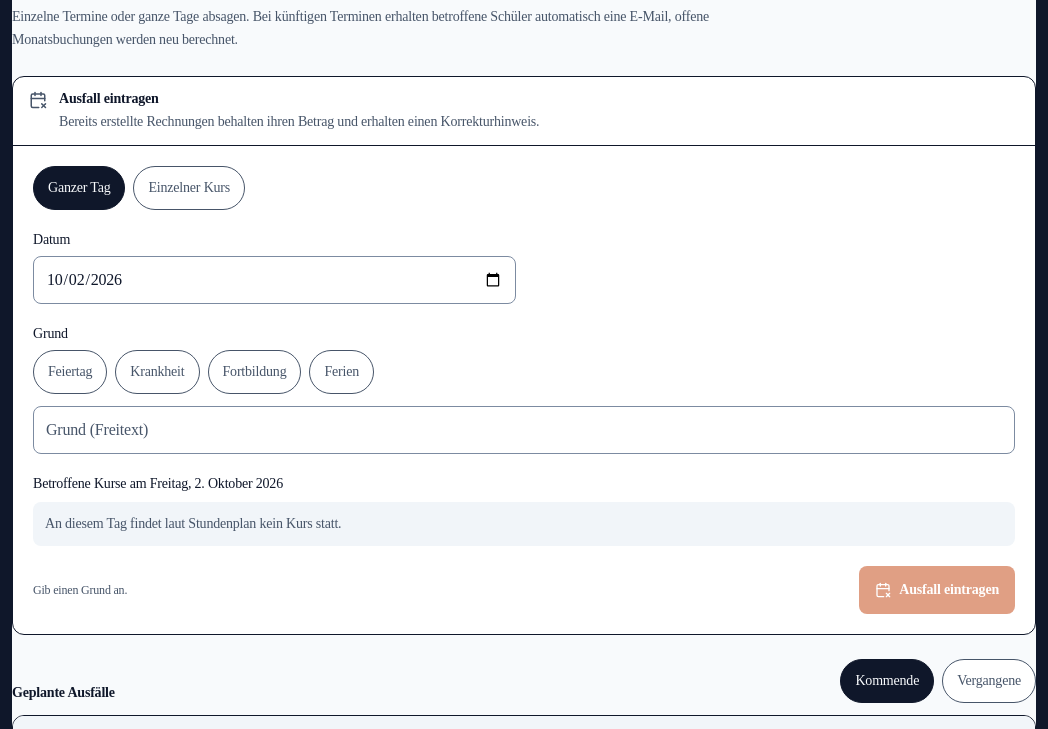
whole day: unchecked courses are left out and partial failures stay visible
This screenshot has width=1048, height=729.
Step 1. Type "2099-10-05" into the date field labelled "Datum" → (274, 280), box [33, 256, 516, 304]
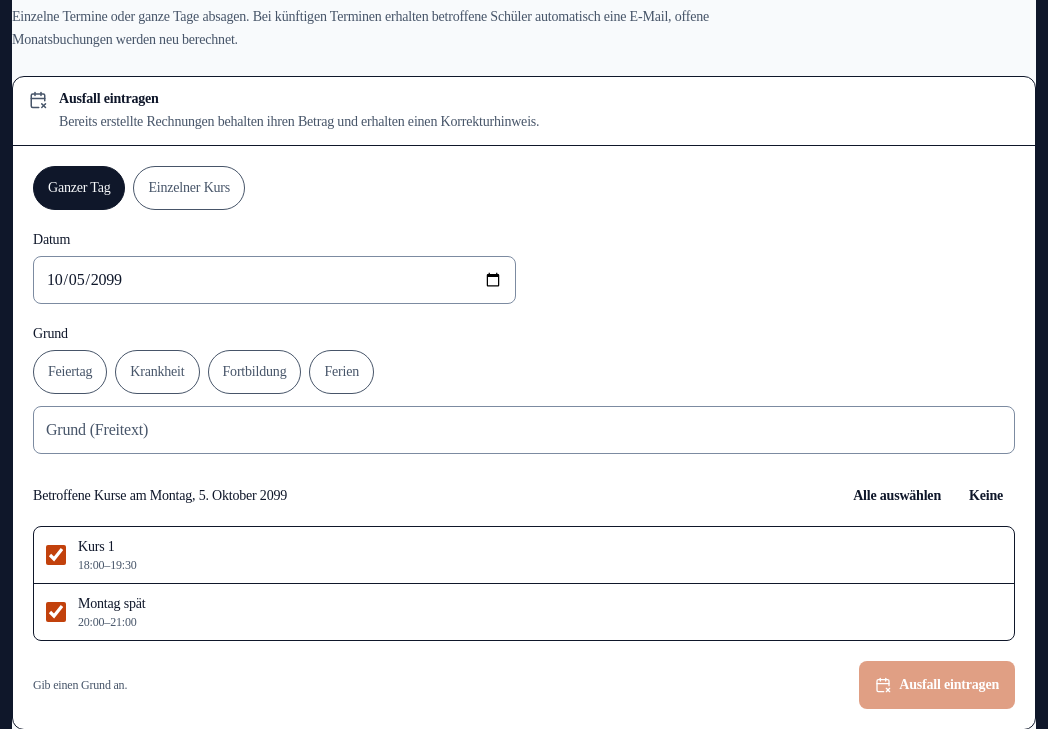
Step 2. Click the checkbox labelled "Montag spät 20:00–21:00" → (56, 612), box [46, 602, 66, 622]
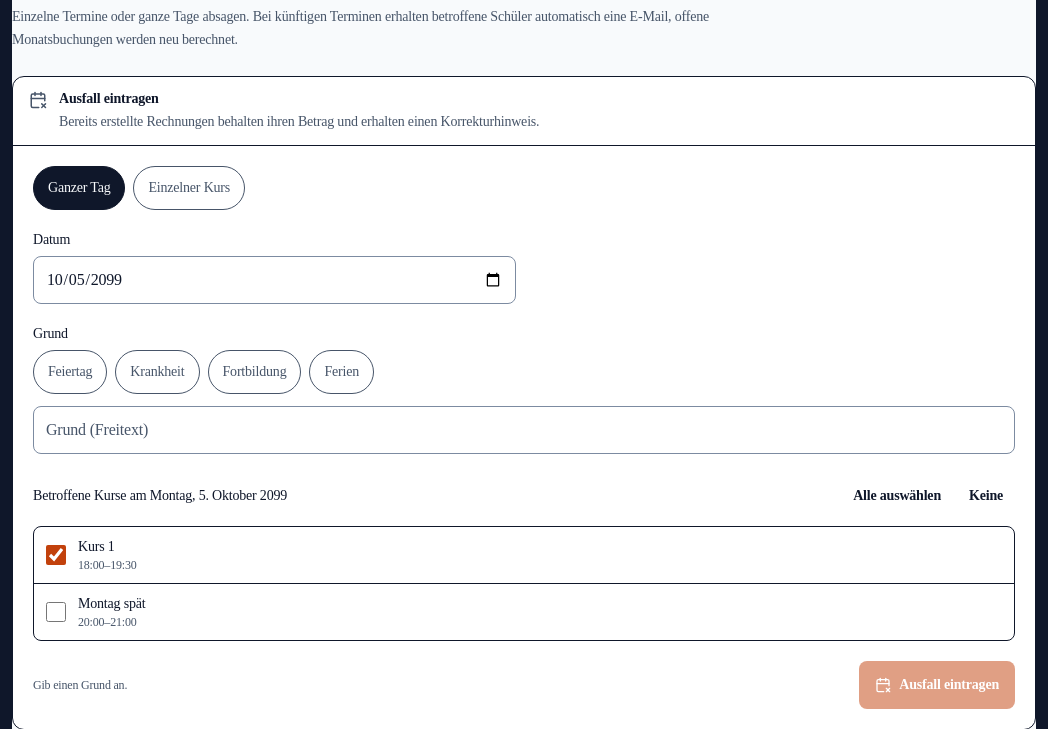
Step 3. Type "Krank" into the field with placeholder "Grund (Freitext)" → (524, 430), box [33, 406, 1015, 454]
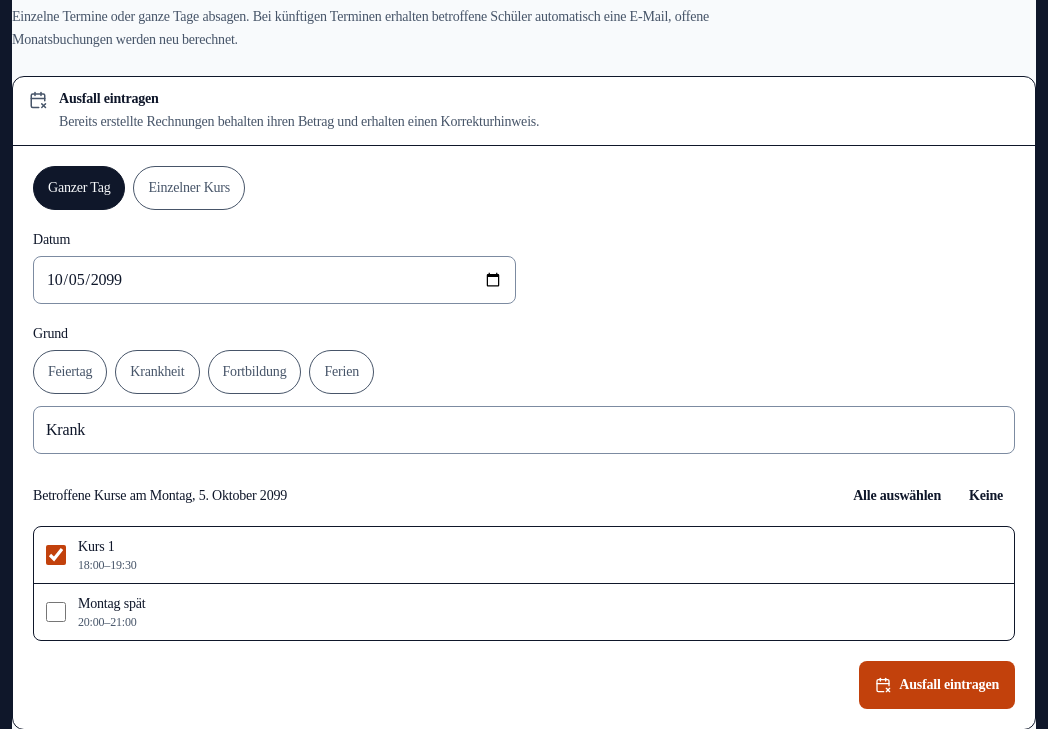
Step 4. Click the button "Ausfall eintragen" → (937, 685), box [859, 661, 1015, 709]
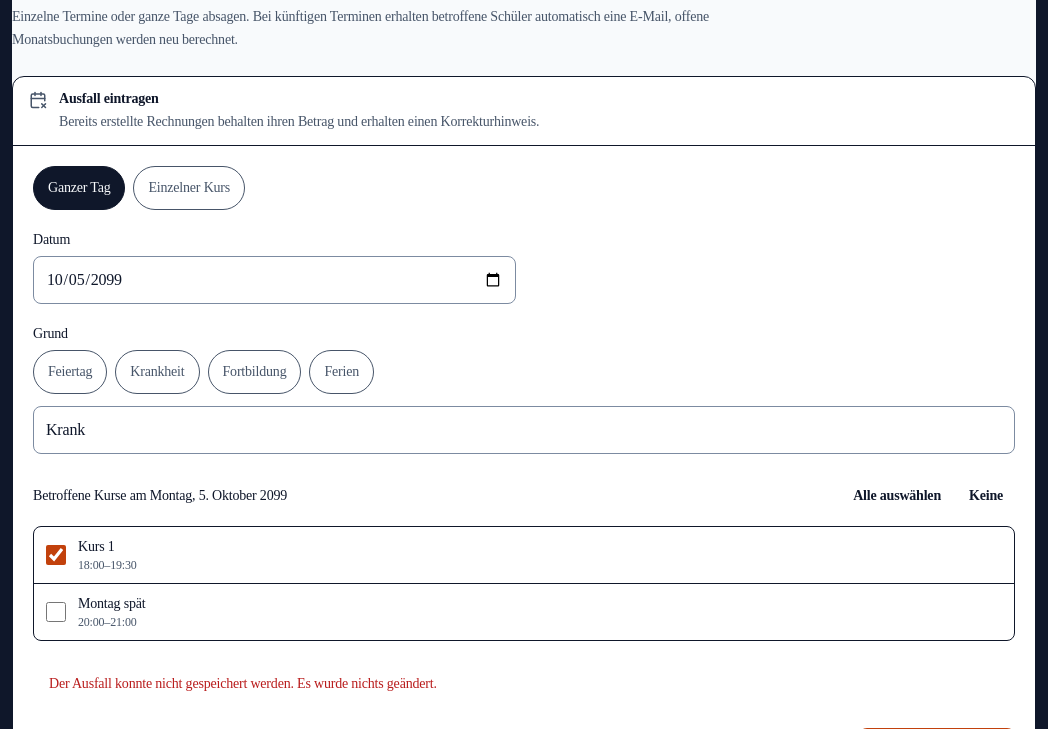
Expected: the message reads "Der Ausfall konnte nicht gespeichert werden. Es wurde nichts geändert.", [49, 676, 437, 691]
Step 5. Click the checkbox labelled "Montag spät 20:00–21:00" → (56, 612), box [46, 602, 66, 622]
(page scrolled)
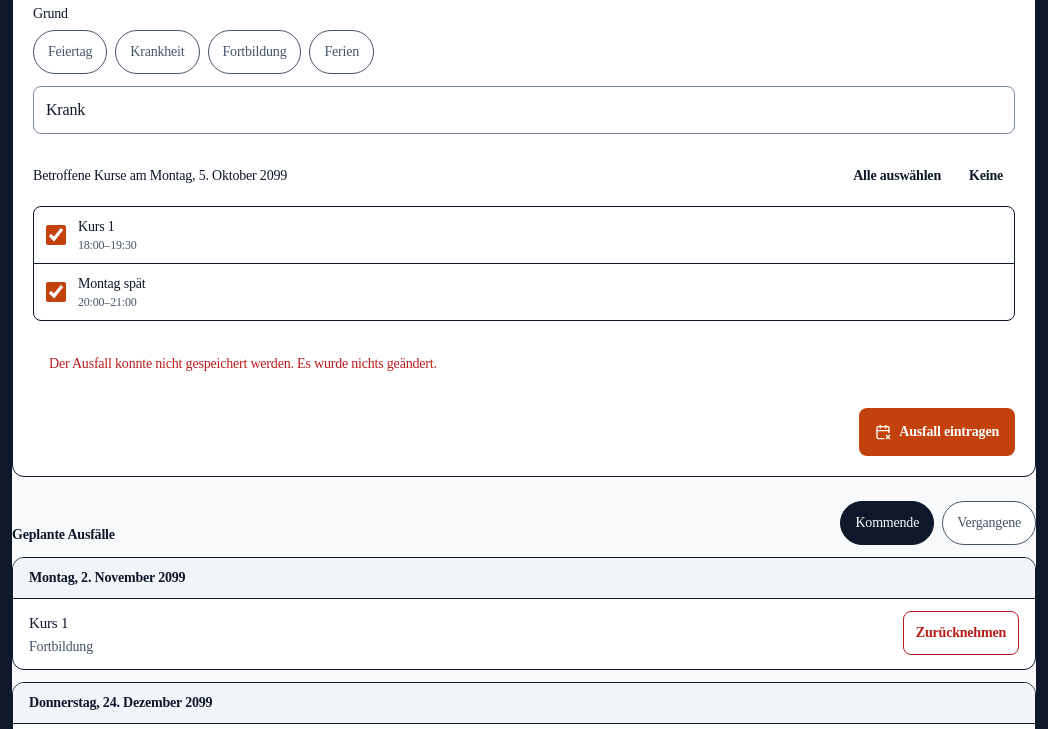
Step 6. Click the button "Ausfall eintragen" → (937, 432), box [859, 408, 1015, 456]
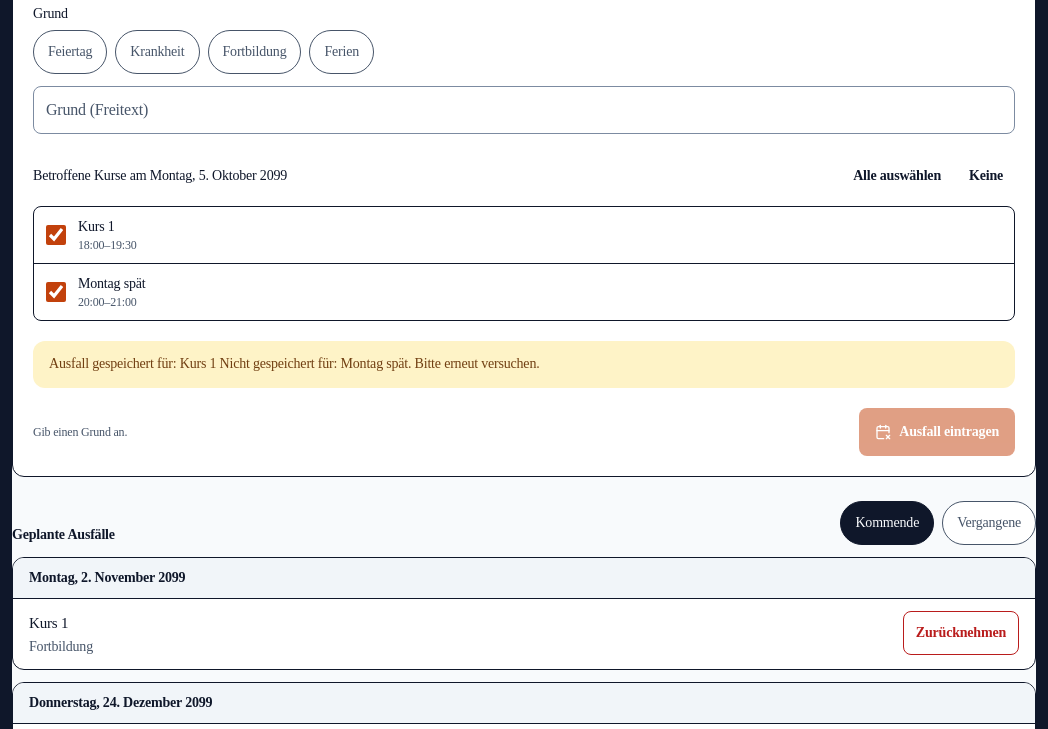
Expected: the message shows "Nicht gespeichert für: Montag spät", [49, 356, 540, 371]
